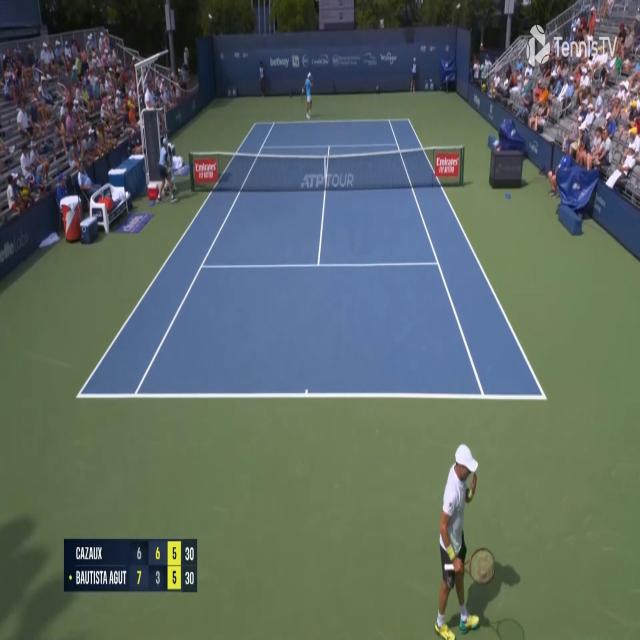tennis-player: (431, 439, 498, 640), (300, 70, 315, 120)
